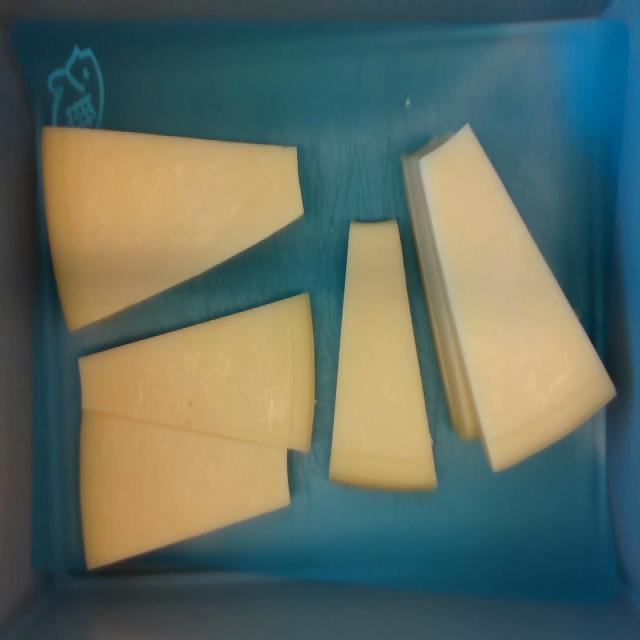cheese: (418, 125, 614, 468), (44, 128, 303, 328), (82, 293, 314, 445), (81, 415, 289, 567), (331, 220, 435, 488)
